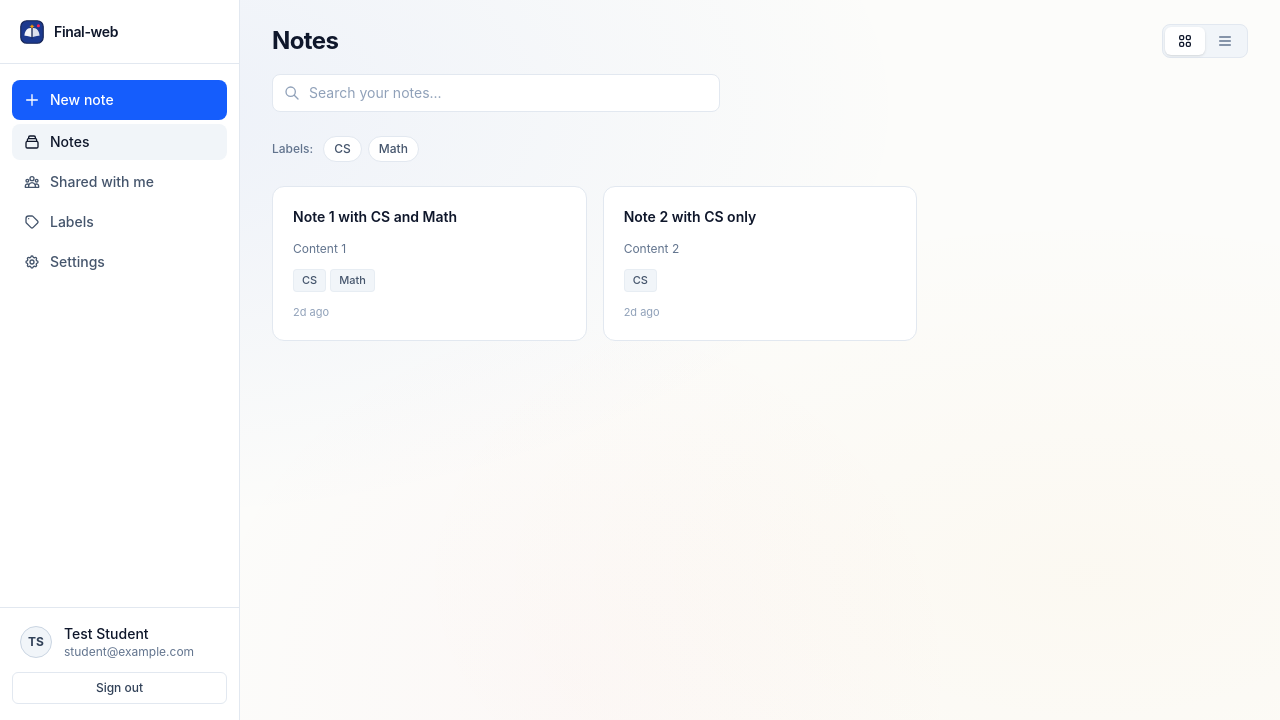
LABEL-03 Label Filtering › toggles label filter chip and passes label_ids to fetchNotes
Check: the element with test id "label-filters-bar" is shown, box [272,136,419,162]
// Click 'CS' (id: 10)
Click the button with test id "label-filter-chip" at (342, 149), box [323,136,362,162]
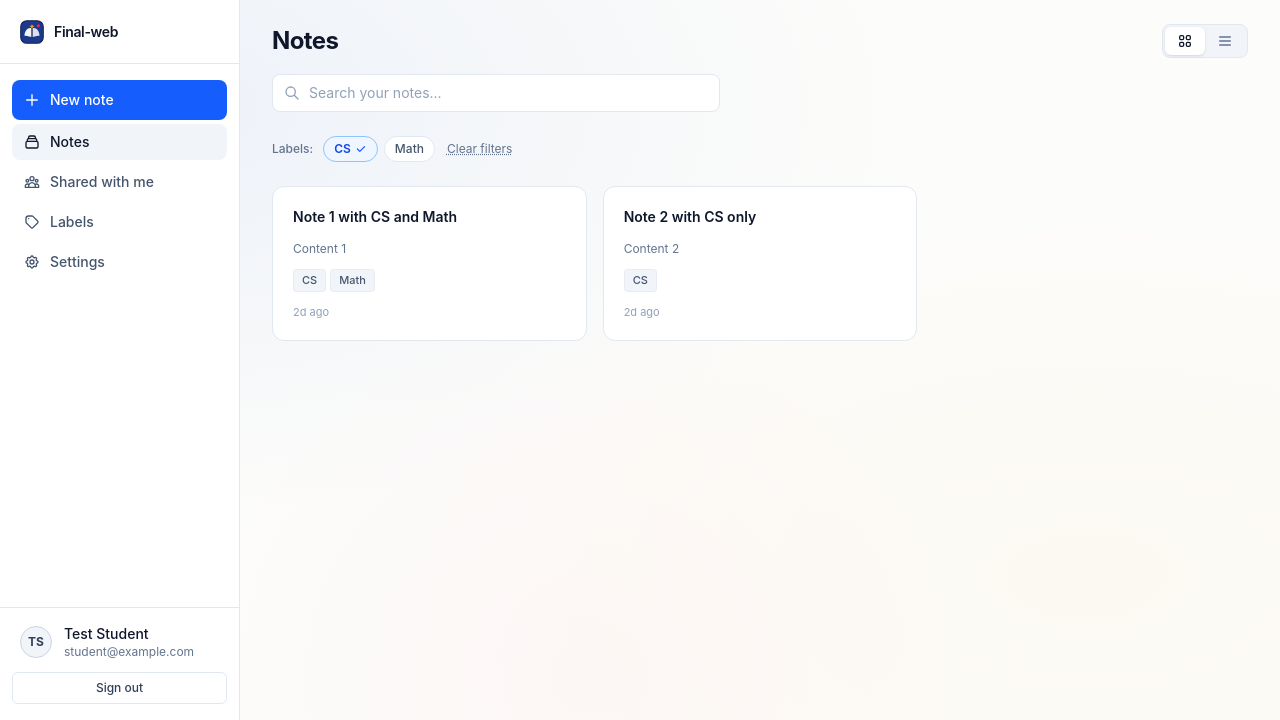
Check: the button with test id "clear-label-filters-button" is shown, box [447,141,512,157]
